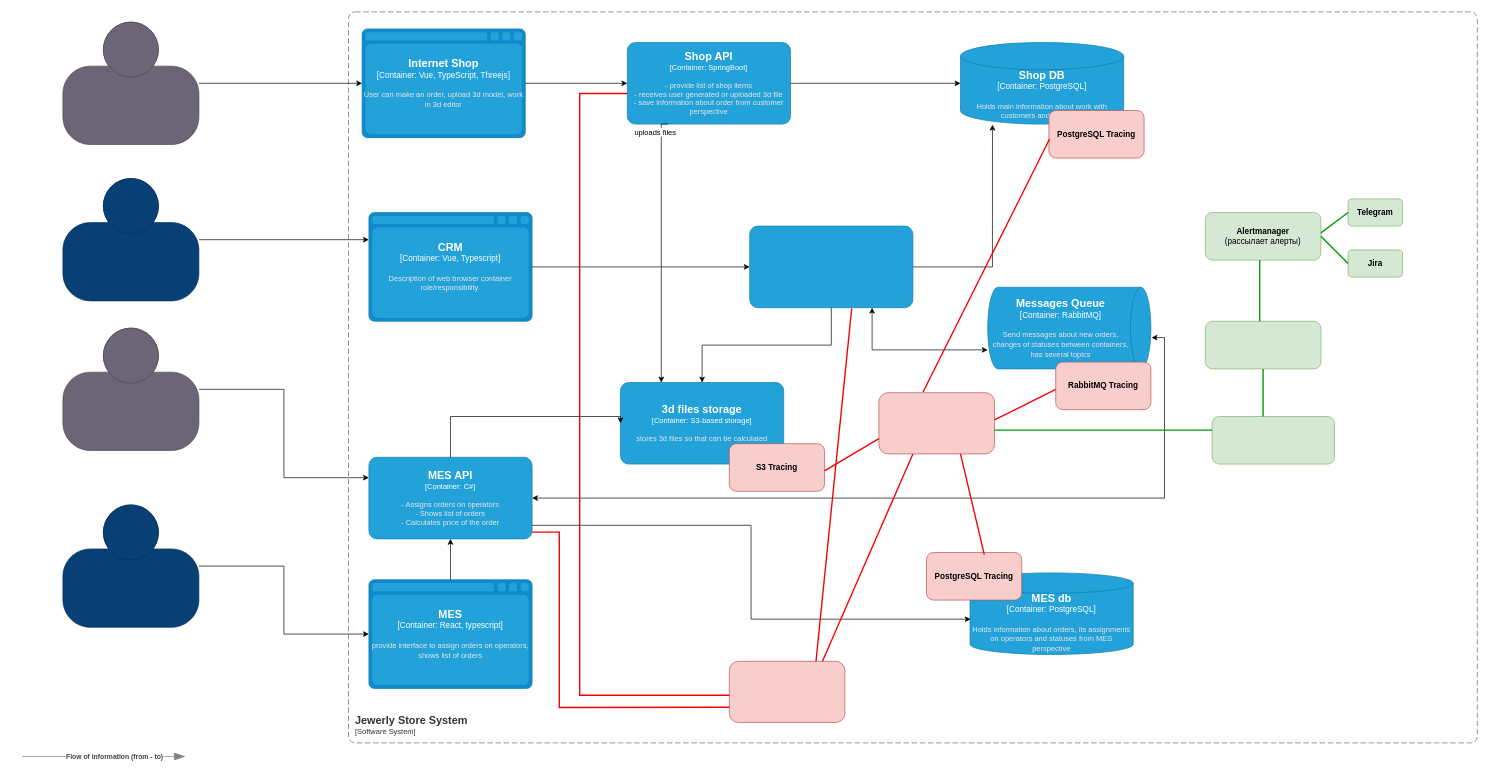
This 1489x779 diagram has some shape labels left out. Here are the shapes that lost their labels. From the top down, the box of each, then its label:
(62, 21, 199, 144): Customer [Person] Description of external person.
(62, 178, 199, 301): Seller [Person] Operates with order, confirms manufacturing for the user
(749, 225, 913, 308): CRM API [Container: SpringBoot] Description of container role/responsibility.
(1205, 321, 1321, 369): Grafana Alerting ( контролирует SLA)
(62, 327, 199, 451): API user [Person] Description of external person.
(878, 392, 995, 454): Jaeger Tracing
(1211, 416, 1334, 464): Prometheus Monitoring (анализирует трейсинг)
(62, 504, 199, 627): Operator [Person] Takes order in work, manufactures jewerly
(729, 661, 845, 722): OpenTelemetry SDK
